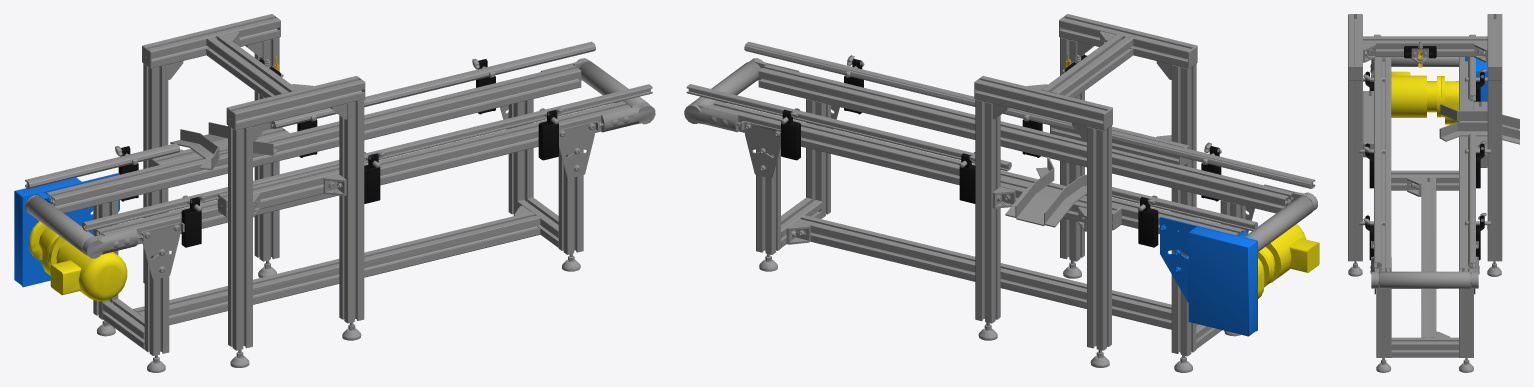
The model's file is convey3.FBX.
The picture shows the model from 3 angles, left to right: view 1: azimuth 30°, elevation 25°; view 2: azimuth 150°, elevation 25°; view 3: azimuth 270°, elevation 25°; orthographic projection. The views are drawn at different scales.
Visible parts, largest first — view 1: Object4489; view 2: Object4489; view 3: Object4489.
Part boxes in pixels (<box>): Object4489: <box>14,14,655,372</box>; Object4489: <box>684,14,1319,372</box>; Object4489: <box>1348,14,1519,372</box>.
Bounding box in the file's own units: 333 × 143 × 103.
